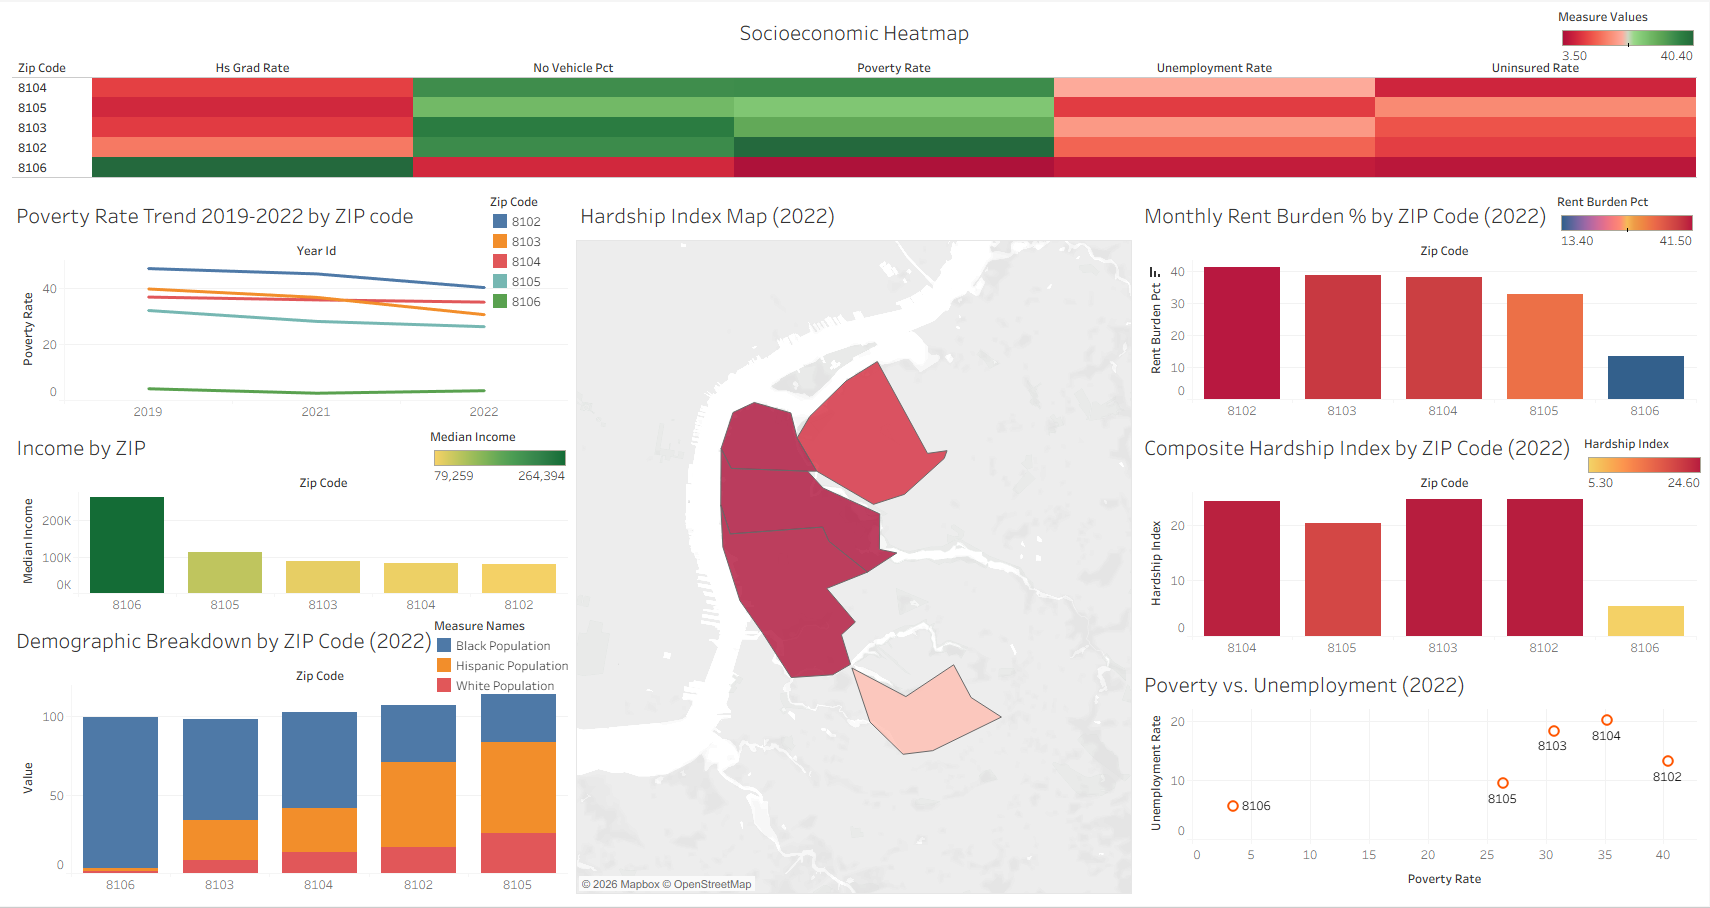

The dashboard page shown, as its layout file describes it:
{"tool":"tableau","page":{"name":"Camden Socioeconomic Analytics","canvas":[1000,1000],"units":"permille","ordinal":0},"visuals":[{"type":"legend","title":"Socioeconomics","param":"[federated.0wbuztp10yt9vq1d6mlsv1u6ttj3].[Multiple Values]","box":[911.6,6.6,81.9,84.1]},{"type":"worksheet","title":"Socioeconomics","mark":"Square","rows":["ZIP_CODE"],"box":[4.7,8.8,990.6,202.4]},{"type":"worksheet","title":"Poverty Trend","mark":"Line","rows":["POVERTY_RATE"],"cols":["YEAR_ID"],"box":[4.7,211.3,330,257.2]},{"type":"legend","title":"Poverty Trend","param":"[federated.0wbuztp10yt9vq1d6mlsv1u6ttj3].[none:ZIP_CODE:nk]","box":[286.7,211.3,51.5,135]},{"type":"worksheet","title":"Hardship ZIP Map","mark":"Automatic","box":[334.7,211.3,330.2,779.9]},{"type":"worksheet","title":"Rent Burden","mark":"Automatic","rows":["Calculation_6765345231339524"],"cols":["ZIP_CODE"],"box":[664.9,211.3,330.4,257.2]},{"type":"legend","title":"Rent Burden","param":"[federated.0wbuztp10yt9vq1d6mlsv1u6ttj3].[sum:Calculation_6765345231339524:qk]","box":[911.1,211.3,81.9,84.1]},{"type":"worksheet","title":"Income by ZIP","mark":"Bar","rows":["MEDIAN_INCOME"],"cols":["ZIP_CODE"],"box":[4.7,468.4,330,213.4]},{"type":"worksheet","title":"Hardship Index","mark":"Automatic","rows":["Calculation_6765345229025280"],"cols":["ZIP_CODE"],"box":[664.9,468.4,330.4,261.4]},{"type":"legend","title":"Income by ZIP","param":"[federated.0wbuztp10yt9vq1d6mlsv1u6ttj3].[sum:MEDIAN_INCOME:qk]","box":[251.6,471.2,81.9,84.1]},{"type":"legend","title":"Hardship Index","param":"[federated.0wbuztp10yt9vq1d6mlsv1u6ttj3].[sum:Calculation_6765345229025280:qk]","box":[926.9,479,70.8,84.1]},{"type":"legend","title":"Demographics","param":"[federated.0wbuztp10yt9vq1d6mlsv1u6ttj3].[:Measure Names]","box":[254,680.3,98.9,86.3]},{"type":"worksheet","title":"Demographics","mark":"Bar","cols":["ZIP_CODE"],"box":[4.7,681.9,330,309.3]},{"type":"worksheet","title":"Poverty vs. Unemployment","mark":"Automatic","rows":["UNEMPLOYMENT_RATE"],"cols":["POVERTY_RATE"],"box":[664.9,729.8,330.4,261.4]}]}

Visuals, with their boxes on the dashboard's canvas, which has no fixed pixel size, in thousandths of its width and height (x1, y1, x2, y2). These are canvas units, not pixel positions in the 1710x908 screenshot, which may show the page scaled, cropped or inside an application window:
"Socioeconomics" legend: box=[912, 7, 994, 91]
"Socioeconomics" worksheet (Square marks): box=[5, 9, 995, 211]
"Poverty Trend" worksheet (Line marks): box=[5, 211, 335, 468]
"Poverty Trend" legend: box=[287, 211, 338, 346]
"Hardship ZIP Map" worksheet: box=[335, 211, 665, 991]
"Rent Burden" worksheet: box=[665, 211, 995, 468]
"Rent Burden" legend: box=[911, 211, 993, 295]
"Income by ZIP" worksheet (Bar marks): box=[5, 468, 335, 682]
"Hardship Index" worksheet: box=[665, 468, 995, 730]
"Income by ZIP" legend: box=[252, 471, 334, 555]
"Hardship Index" legend: box=[927, 479, 998, 563]
"Demographics" legend: box=[254, 680, 353, 767]
"Demographics" worksheet (Bar marks): box=[5, 682, 335, 991]
"Poverty vs. Unemployment" worksheet: box=[665, 730, 995, 991]
